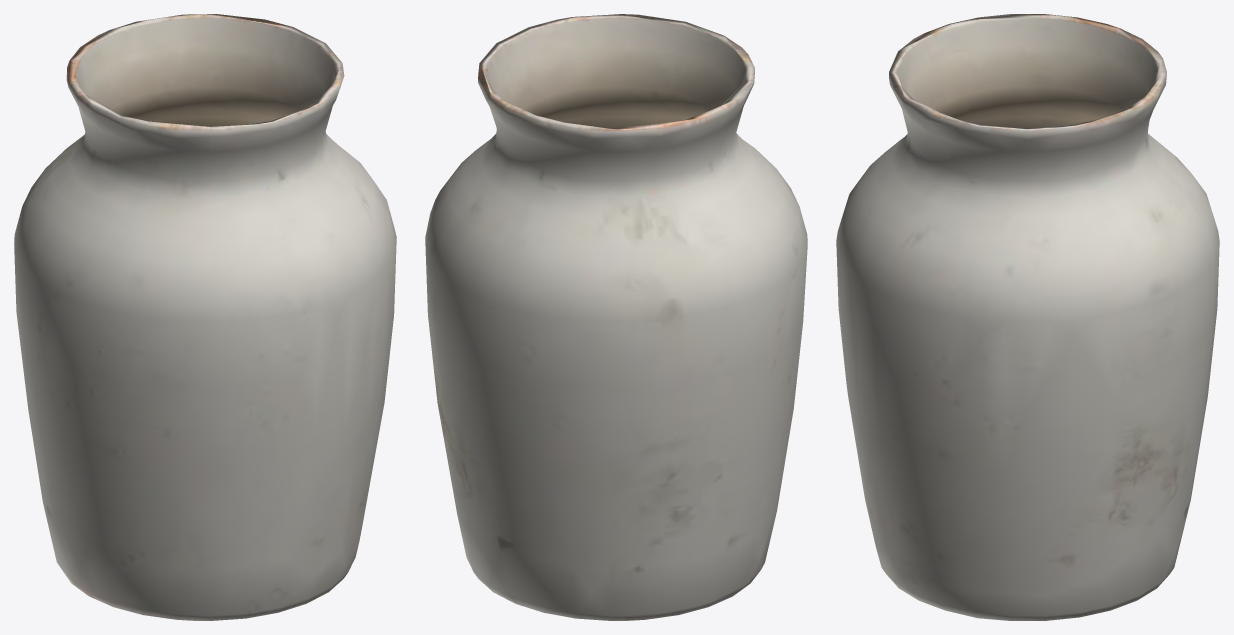
The model's file is ceramic_vase_02.glb.
The picture shows the model from 3 angles, left to right: view 1: azimuth 30°, elevation 25°; view 2: azimuth 150°, elevation 25°; view 3: azimuth 270°, elevation 25°; orthographic projection.
Visible parts, largest first — view 1: ceramic_vase_02; view 2: ceramic_vase_02; view 3: ceramic_vase_02.
Part boxes in pixels (x1,y1,x2,y2): ceramic_vase_02: (14,14,396,620); ceramic_vase_02: (425,14,807,620); ceramic_vase_02: (836,14,1219,620).
Size of the model in its own units: 0.2176 by 0.309 by 0.2176.
Materials: 1 (1 with a texture image).
